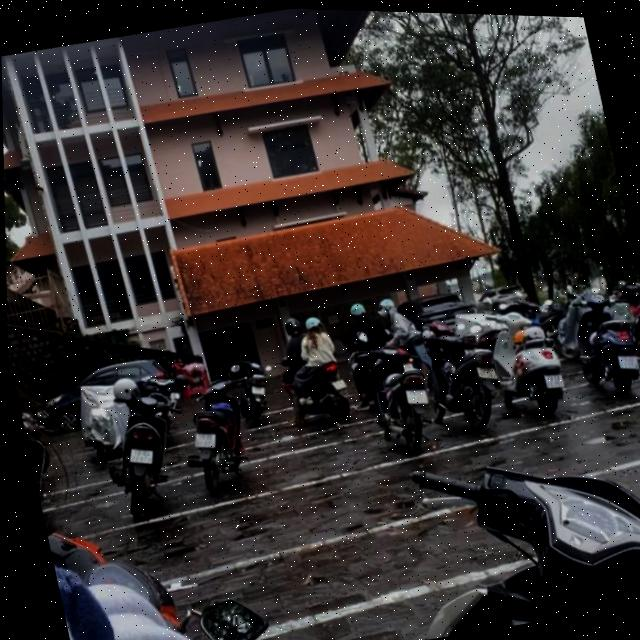motorcycle: (365, 415, 640, 640), (419, 322, 507, 441), (362, 334, 446, 458), (497, 318, 578, 428), (104, 413, 186, 516), (182, 393, 259, 498), (574, 308, 640, 404), (281, 353, 354, 432)
plate: (179, 394, 258, 494), (119, 437, 161, 473), (401, 381, 435, 413), (189, 425, 222, 456)
